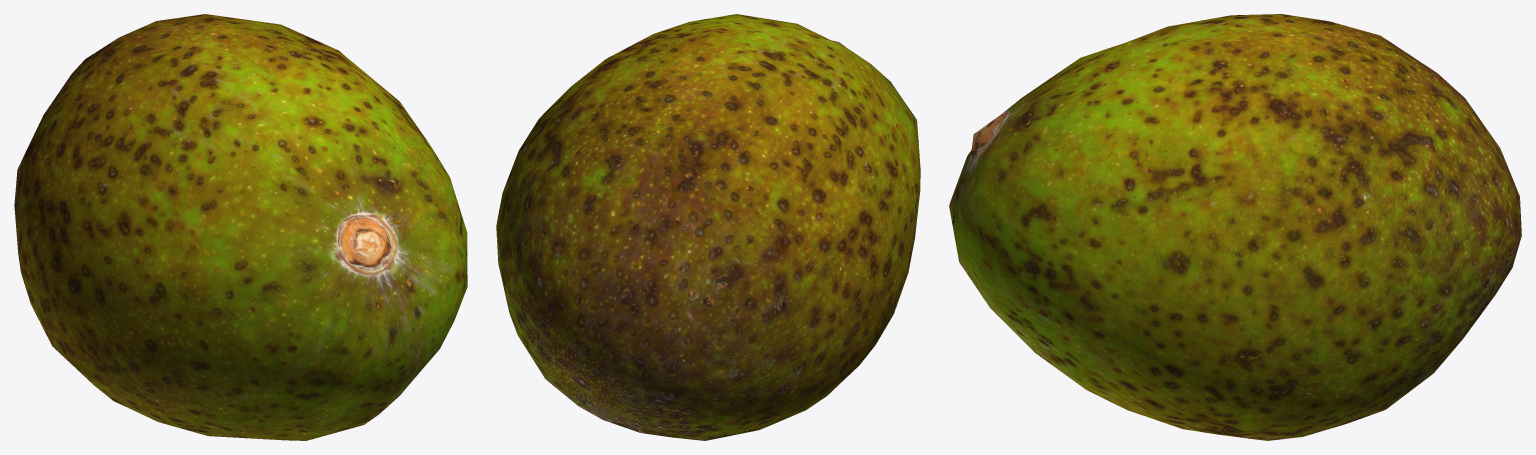
Rendered from model-ultra.gltf.
The picture shows the model from 3 angles, left to right: view 1: azimuth 30°, elevation 25°; view 2: azimuth 150°, elevation 25°; view 3: azimuth 270°, elevation 25°; orthographic projection. The views are drawn at different scales.
Visible parts, largest first — view 1: 3DAvocado001-0; view 2: 3DAvocado001-0; view 3: 3DAvocado001-0.
Part boxes in pixels (x1,y1,x2,y2): 3DAvocado001-0: [14, 14, 467, 440]; 3DAvocado001-0: [496, 14, 920, 440]; 3DAvocado001-0: [949, 14, 1521, 440].
Bounding box in the file's own units: 0.9891 × 1 × 1.36.
Materials: 1 (1 with a texture image).
